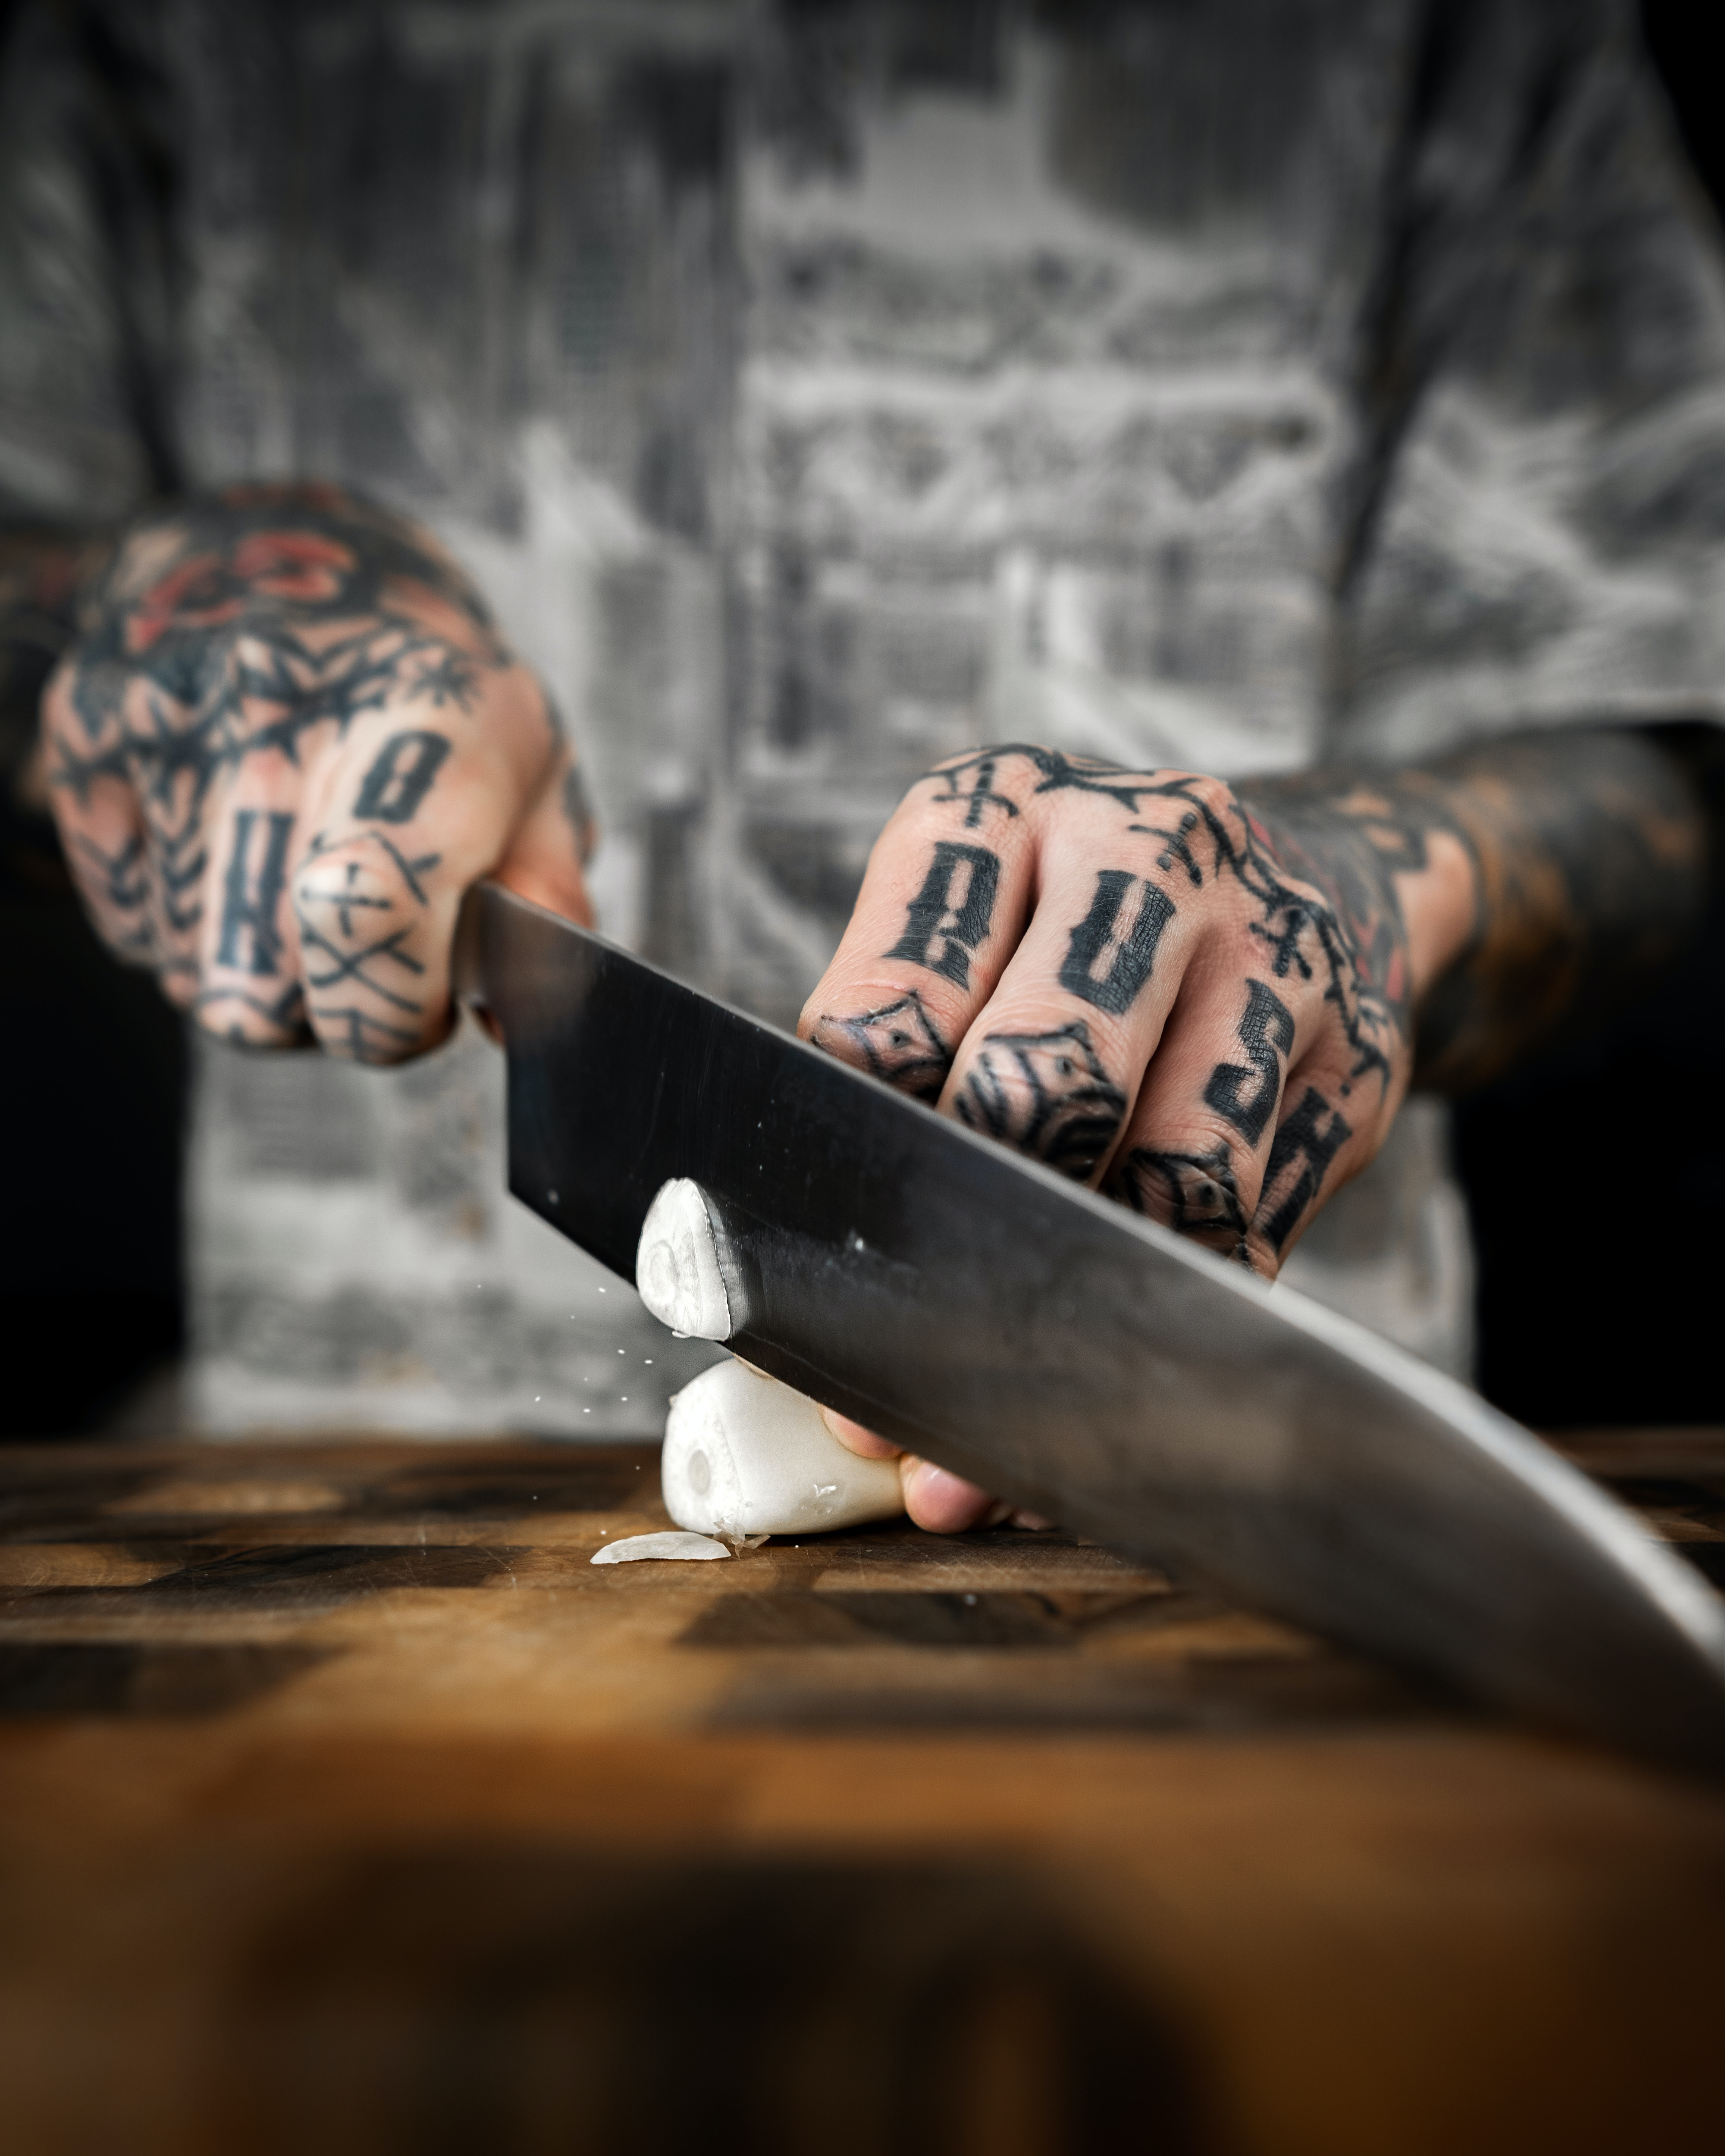knife: (384, 843, 1725, 1825)
